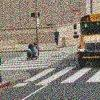buses: (76, 11, 100, 65)
